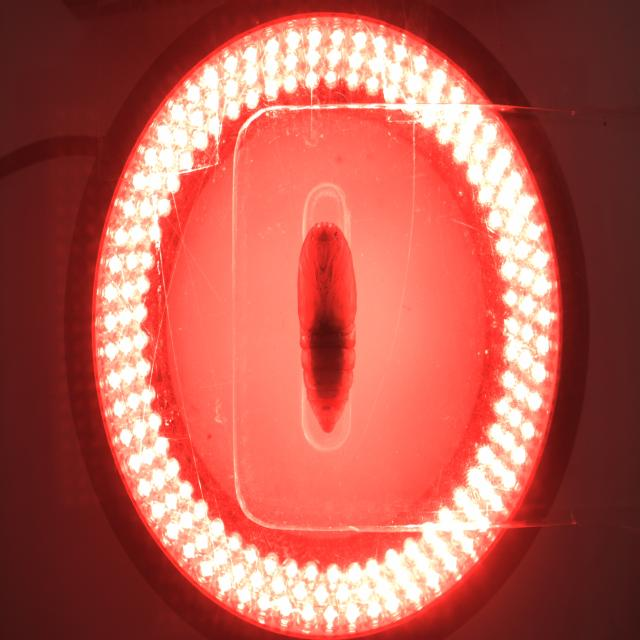male: (319, 401, 335, 415)
